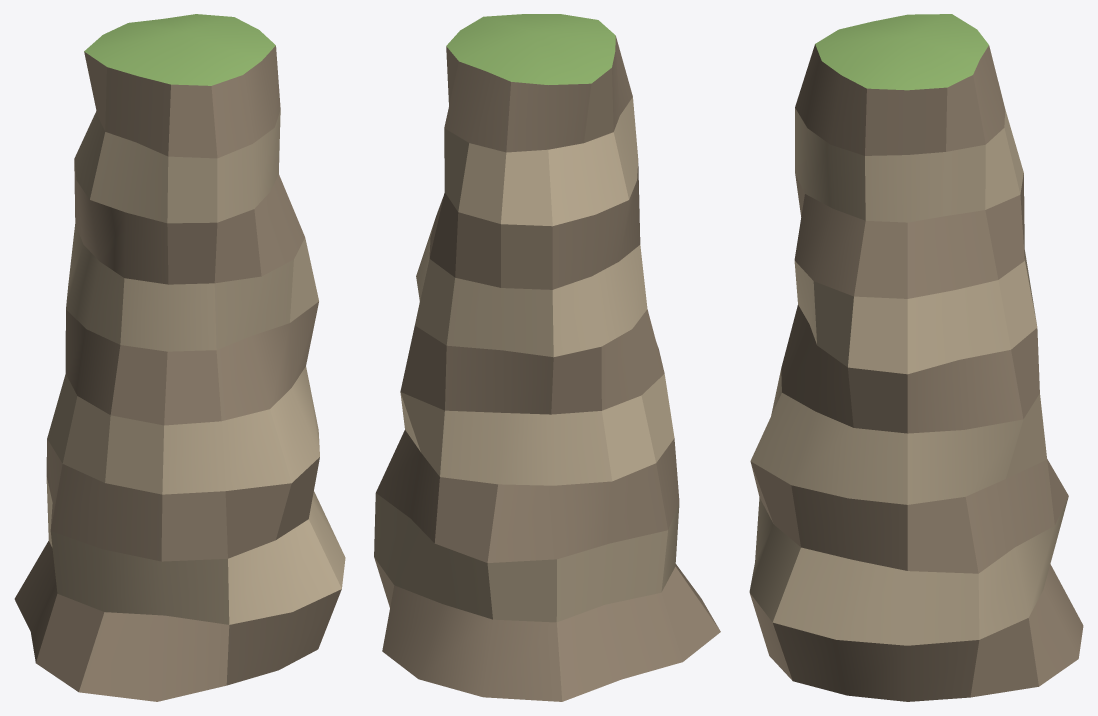
File: sea_stack.glb
The picture shows the model from 3 angles, left to right: view 1: azimuth 30°, elevation 25°; view 2: azimuth 150°, elevation 25°; view 3: azimuth 270°, elevation 25°; orthographic projection. The views are drawn at different scales.
Visible parts, largest first — view 1: sea_stack; view 2: sea_stack; view 3: sea_stack.
Part boxes in pixels (x1=…): sea_stack: x1=14, y1=14, x2=345, y2=701; sea_stack: x1=374, y1=14, x2=720, y2=701; sea_stack: x1=749, y1=14, x2=1083, y2=701.
Size of the model in its own units: 11.39 by 22.6 by 11.29.
